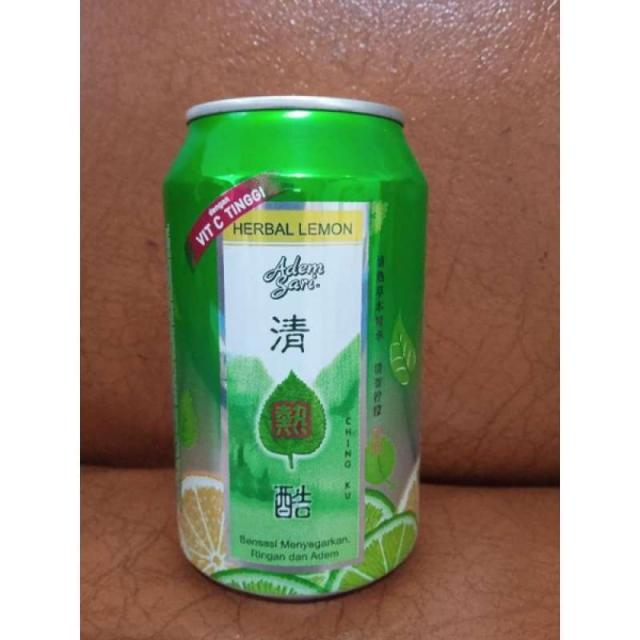ademsarikaleng: (160, 93, 430, 602)
